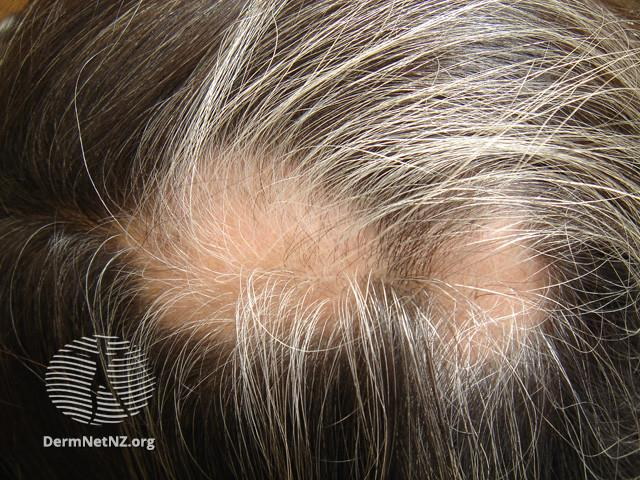Alopecia Areata: (116, 168, 367, 333), (426, 239, 555, 348)
